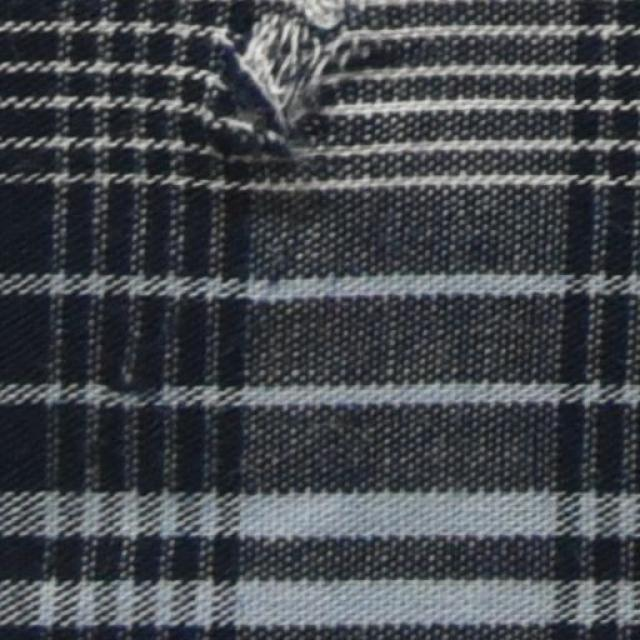Snag: (207, 0, 365, 155)
